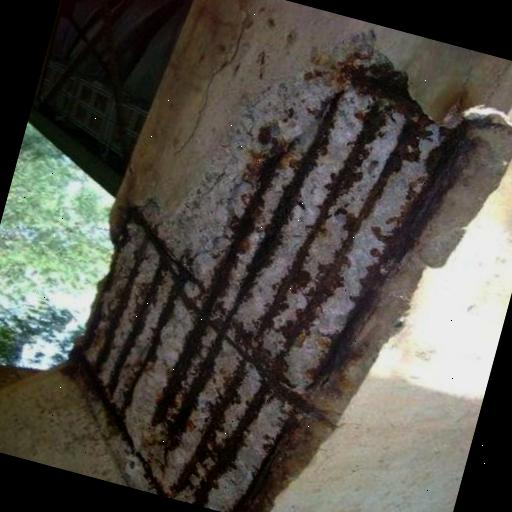spalling: (69, 45, 512, 512)
